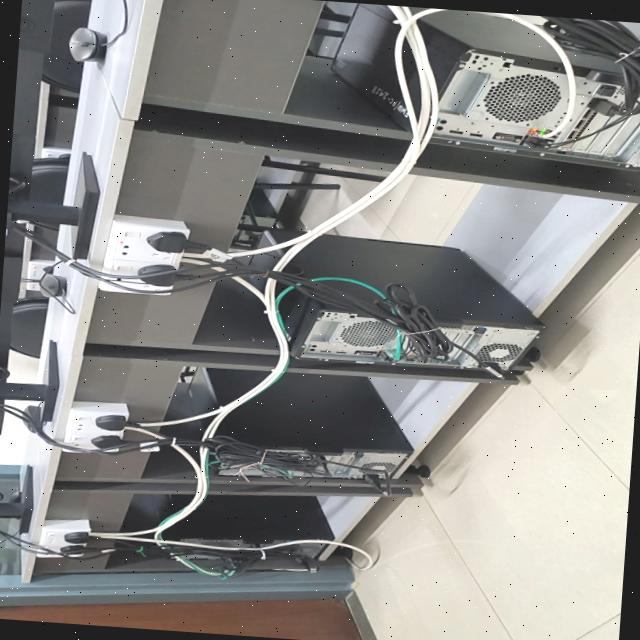Chair: (42, 0, 90, 90), (10, 295, 48, 357), (28, 153, 69, 204)
Cpu: (280, 233, 544, 374), (418, 9, 640, 168), (208, 371, 412, 477), (332, 2, 406, 128), (163, 494, 333, 544), (189, 367, 268, 414), (250, 247, 288, 268), (257, 228, 301, 246), (274, 543, 326, 556), (159, 494, 185, 517)
Monitor: (8, 47, 43, 190), (0, 256, 20, 368), (18, 0, 53, 53), (4, 229, 22, 256), (0, 351, 9, 399)
Mouse: (69, 27, 106, 60), (37, 272, 65, 295)
